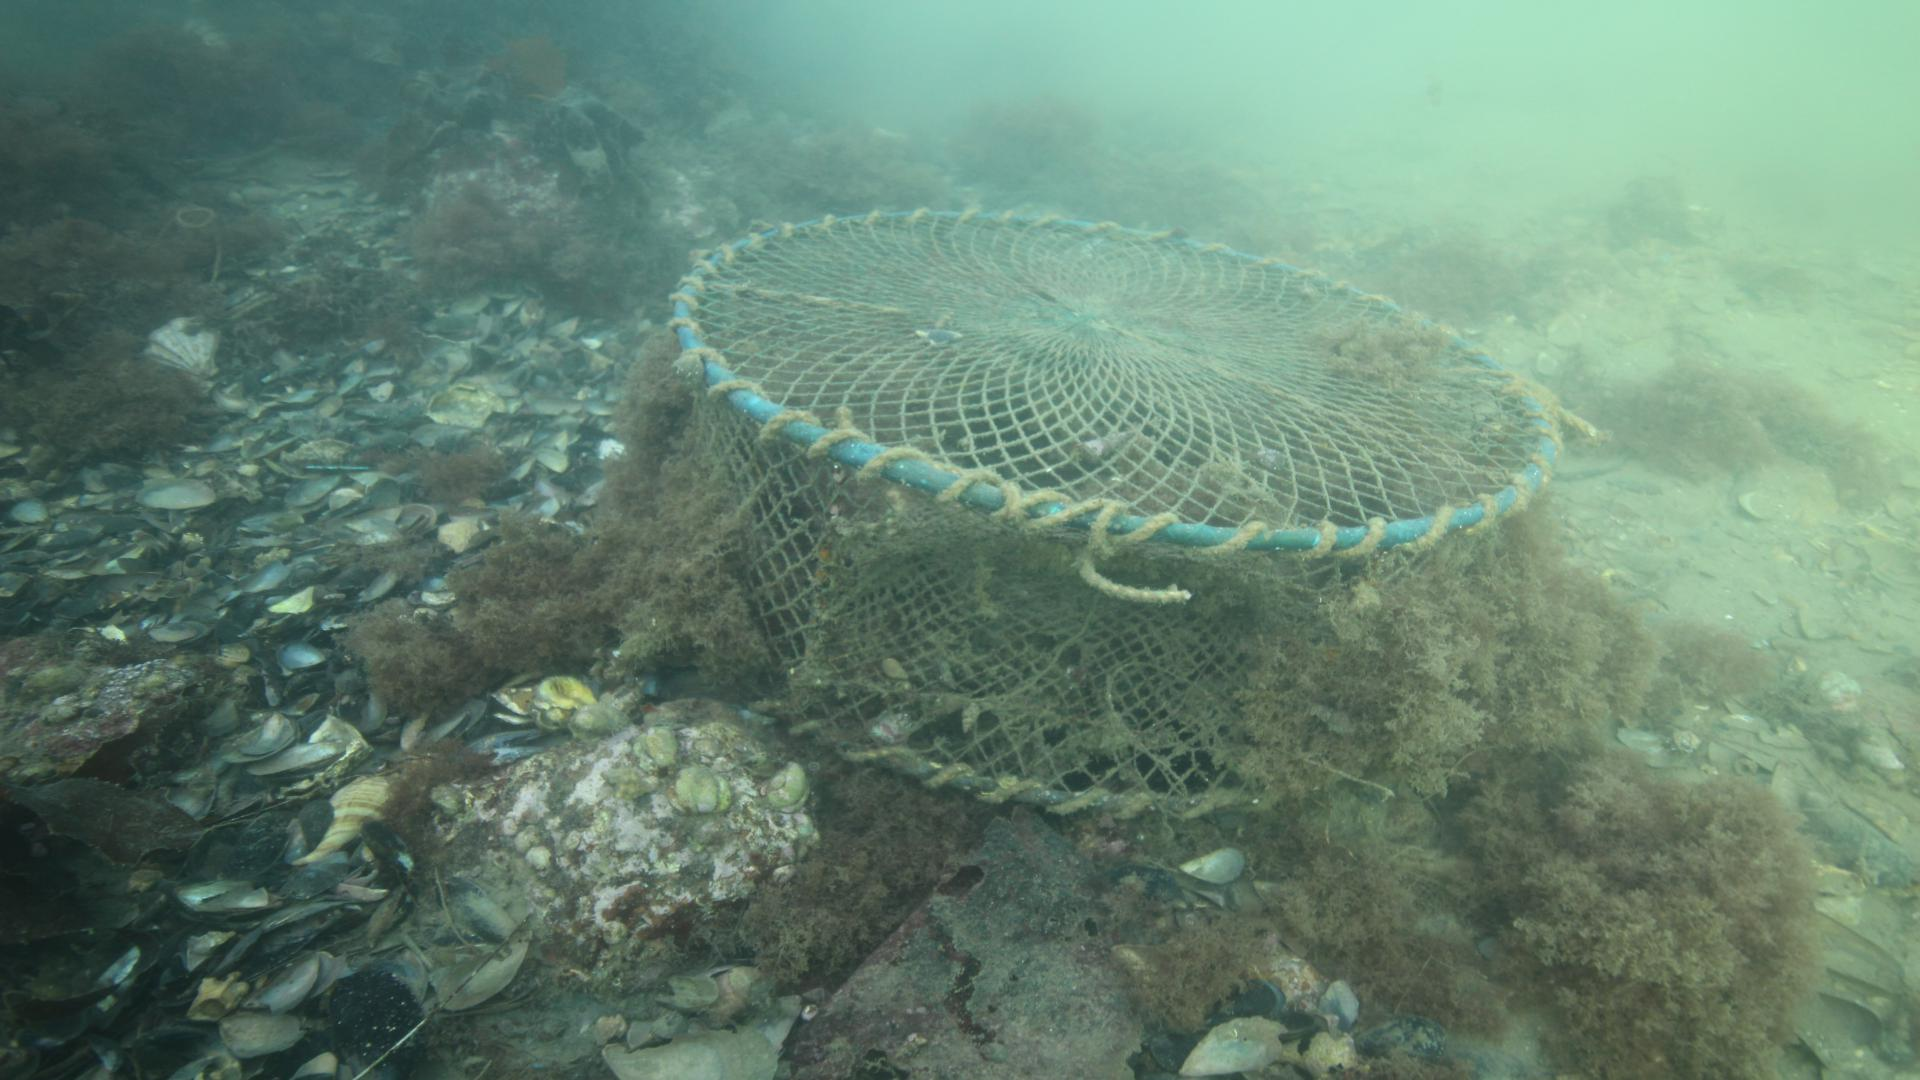circular fish trap: (665, 204, 1563, 819)
